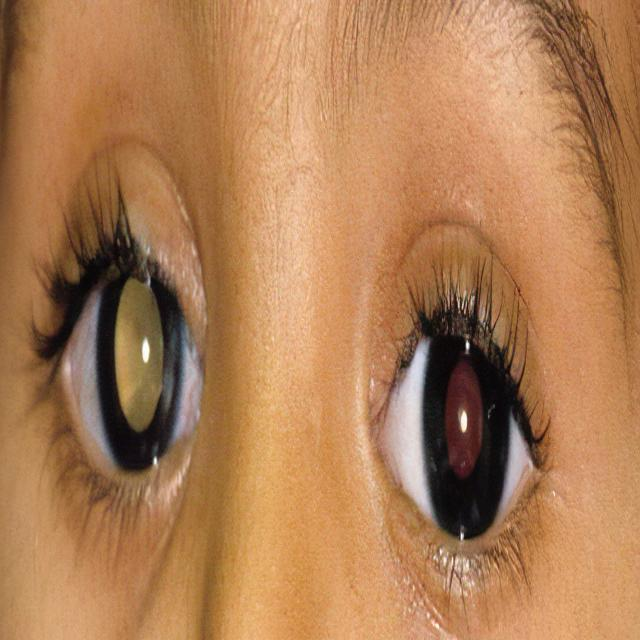reflexo-alterado: (46, 236, 194, 531)
reflexo-normal: (388, 286, 537, 593)
